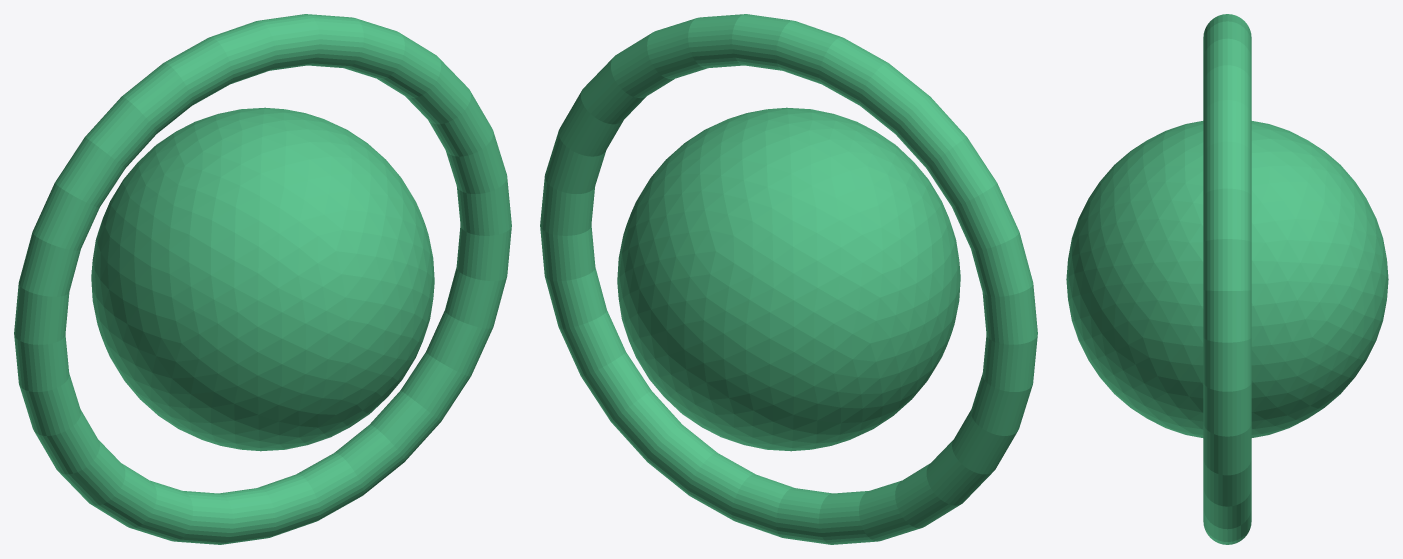
Rendered from creature_11.glb.
The picture shows the model from 3 angles, left to right: view 1: azimuth 30°, elevation 25°; view 2: azimuth 150°, elevation 25°; view 3: azimuth 270°, elevation 25°; orthographic projection. The views are drawn at different scales.
Parts seen in each view (by area): view 1: geometry_0; view 2: geometry_0; view 3: geometry_0.
Part boxes in pixels (x1=…): geometry_0: x1=14, y1=14, x2=511, y2=544; geometry_0: x1=540, y1=14, x2=1037, y2=544; geometry_0: x1=1066, y1=14, x2=1388, y2=544.
Bounding box in the file's own units: 3.3 × 3.3 × 2.
